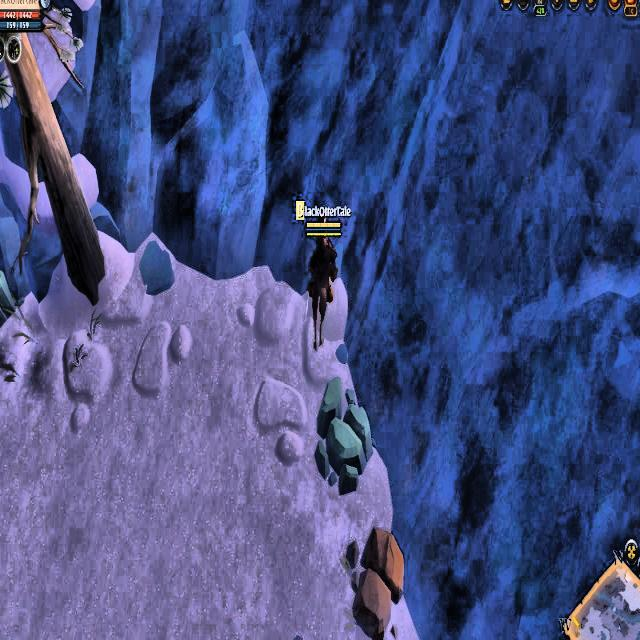limestone: (348, 523, 406, 640)
sandstone: (312, 372, 371, 499), (0, 248, 15, 350)
